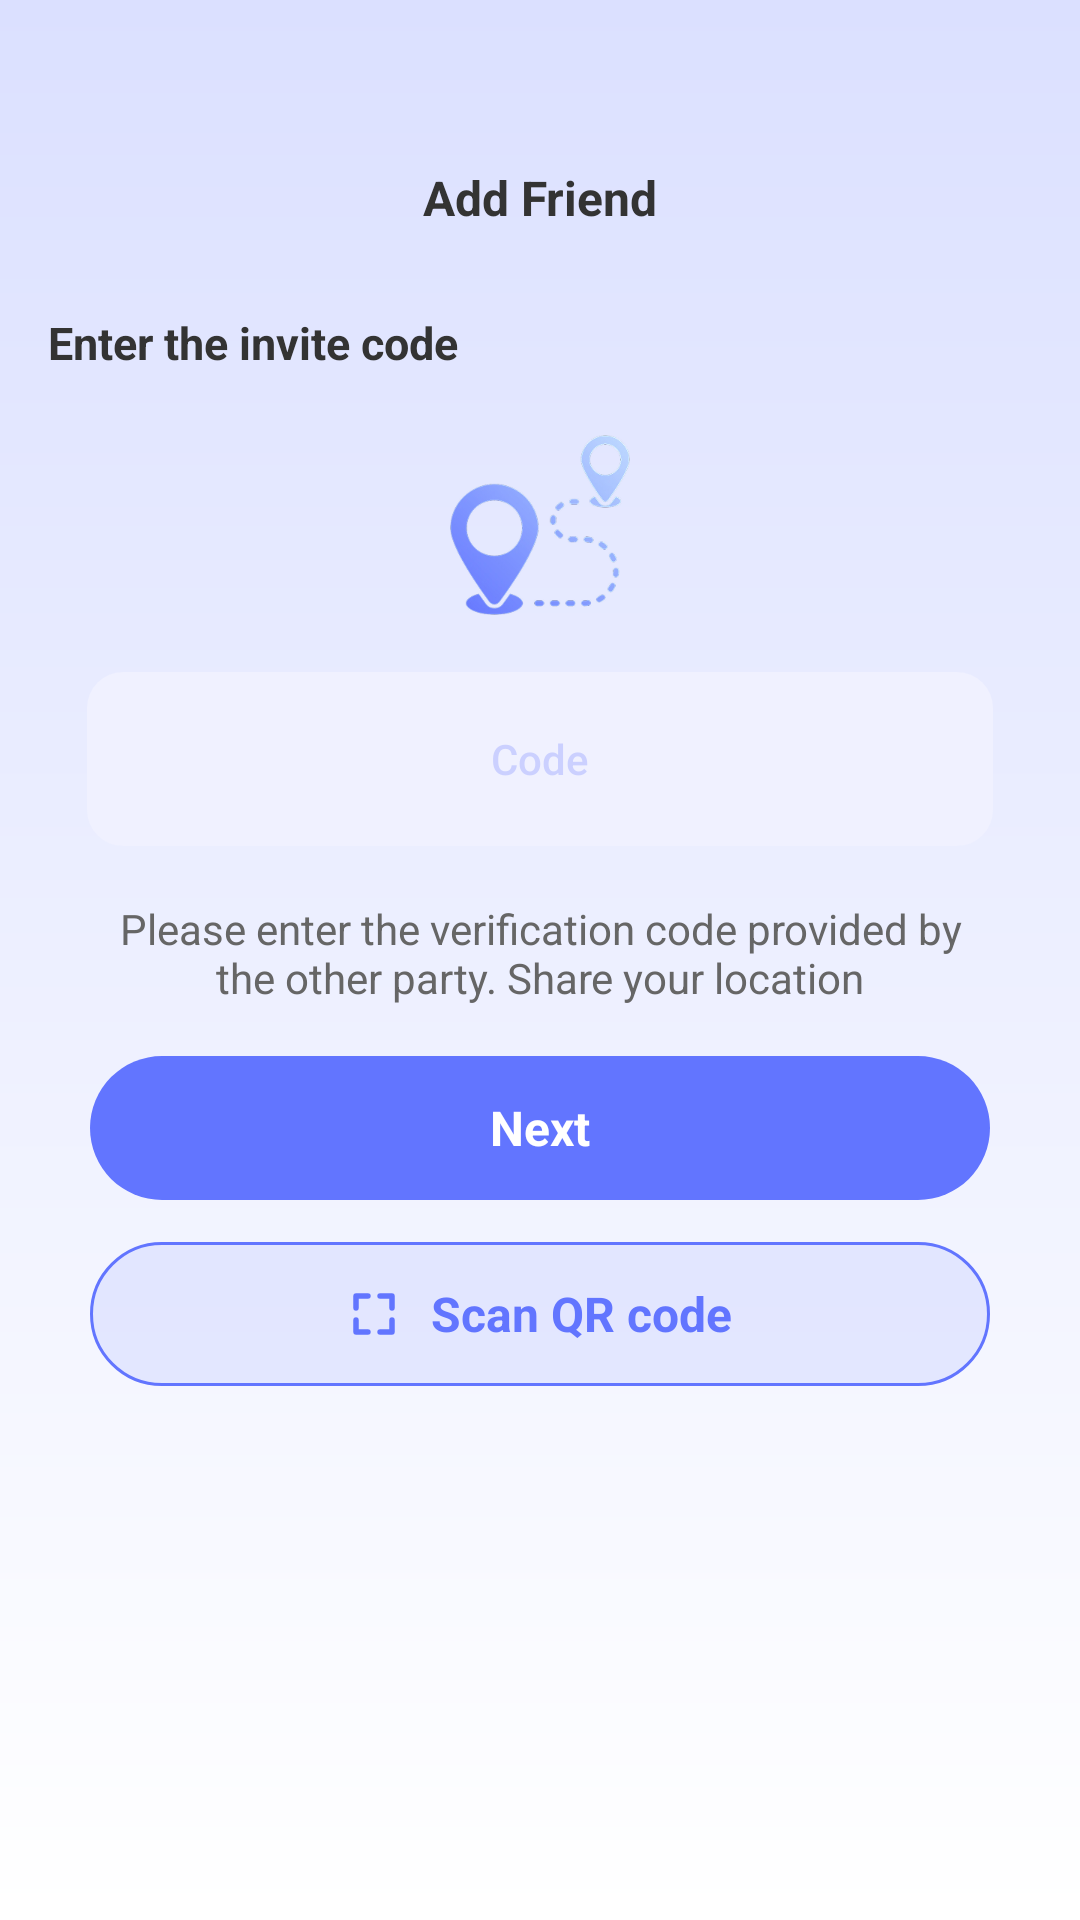

Icon bounding boxes for this 1080px×1920px phone screenshot, format (x1, y1, x2, y2):
figma pairing location: (450, 435, 630, 615)
